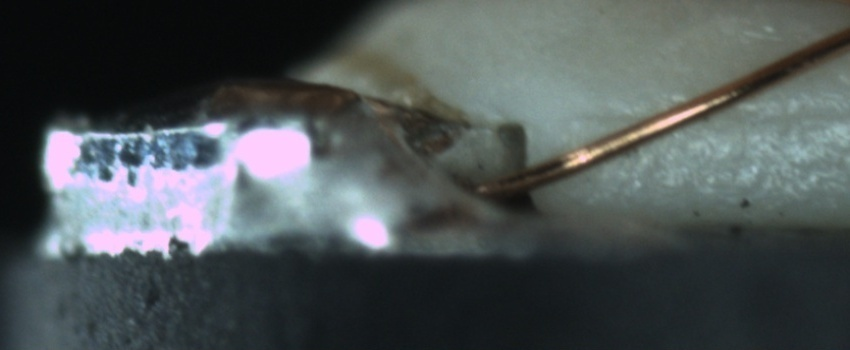DL: (569, 85, 848, 147)
